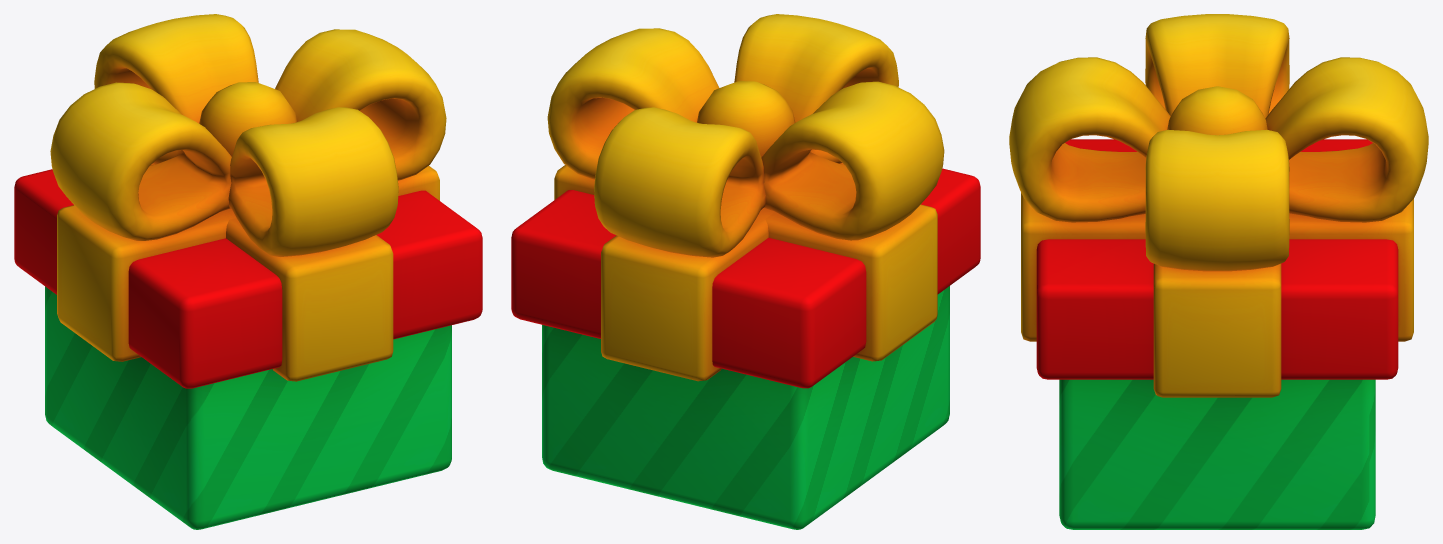
Rendered from qizi_02.FBX.
3 renders of one model, left to right at view 1: azimuth 30°, elevation 25°; view 2: azimuth 150°, elevation 25°; view 3: azimuth 270°, elevation 25°, orthographic. The views are drawn at different scales.
Visible parts, largest first — view 1: qizi_02; view 2: qizi_02; view 3: qizi_02.
Part boxes in pixels (left/top/right/bottom): qizi_02: left=14, top=14, right=482, bottom=529; qizi_02: left=511, top=14, right=980, bottom=529; qizi_02: left=1009, top=14, right=1428, bottom=529.
Bounding box in the file's own units: 88.98 × 90.47 × 88.98.
Materials: 1 (1 with a texture image).
